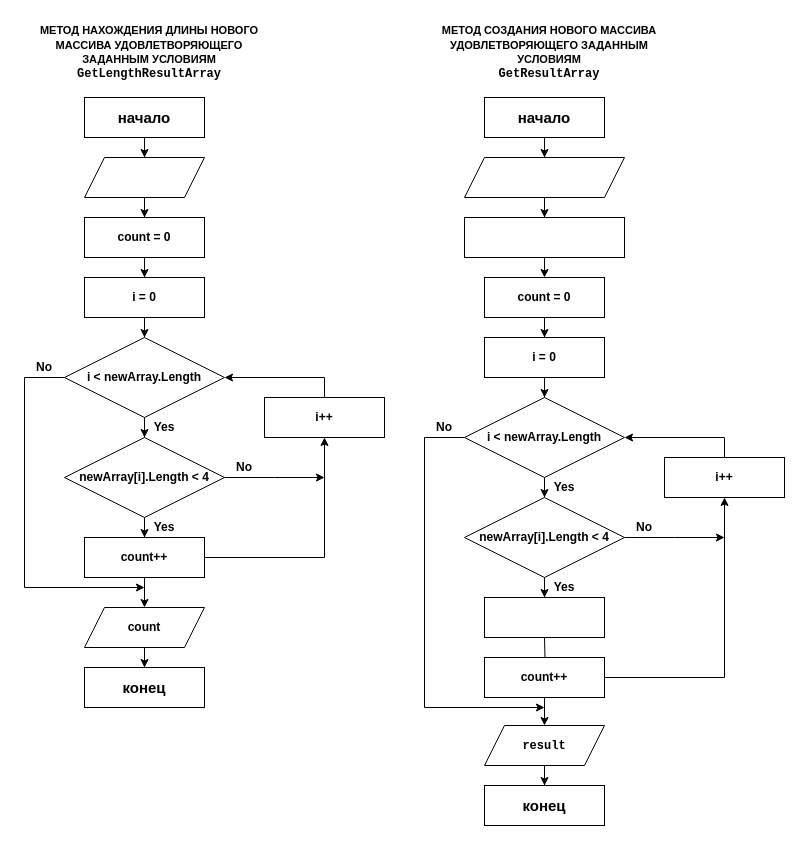
Some shapes in this 802 by 843 pixel diagram are drawn without their labels. The box of each missing label's shape, as (x1, y1, x2, y2) in pixels:
array newArray: (84, 156, 204, 198)
array newArray lengthResult: (464, 156, 624, 198)
result[count] = newArray[i]: (484, 596, 604, 638)
string[ ] result = new string[ lengthResult]: (464, 216, 624, 258)
